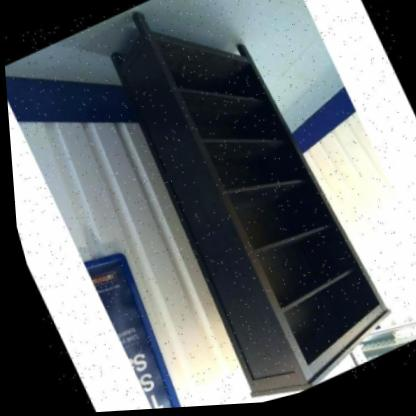Shelf: (66, 0, 409, 413)
